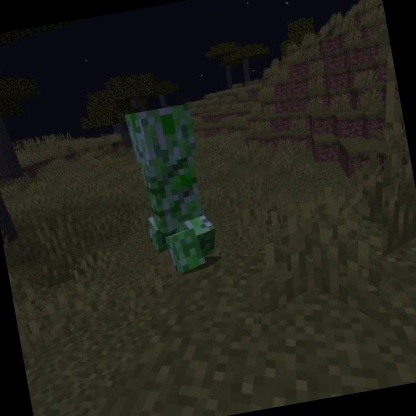creeper: (119, 98, 226, 281)
